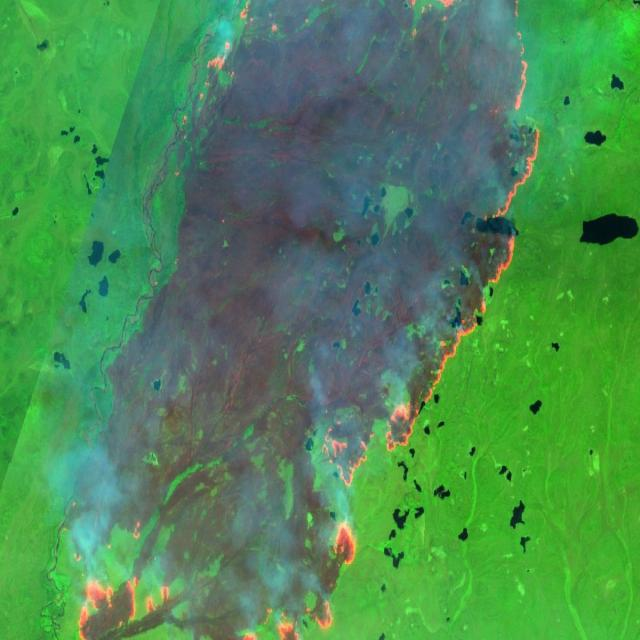fire: (51, 0, 542, 640)
